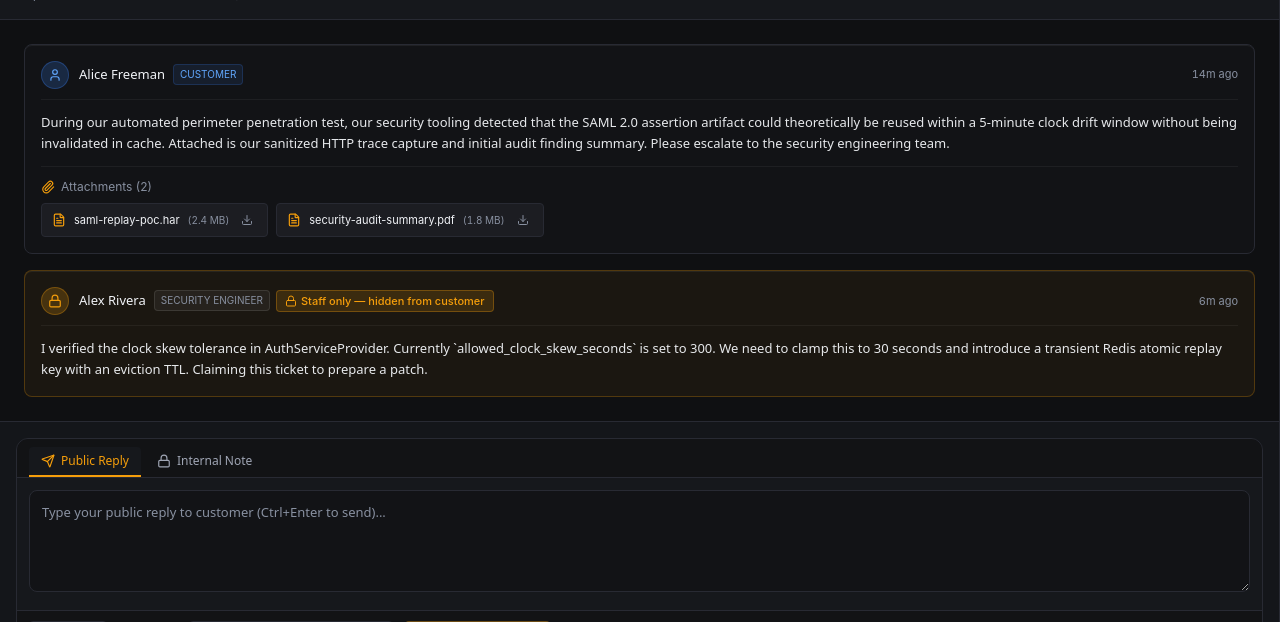
Test: Assignment conflict recovery › keeps a stale Claim deliberate and accepts the current Assignment without another mutation
The width and height of the screenshot is (1280, 622).
(page scrolled)
Type "Claim draft" into the text box with test id "composer-textarea".
click(640, 541); type("Claim draft")  # box [29,490,1250,592]
(page scrolled)
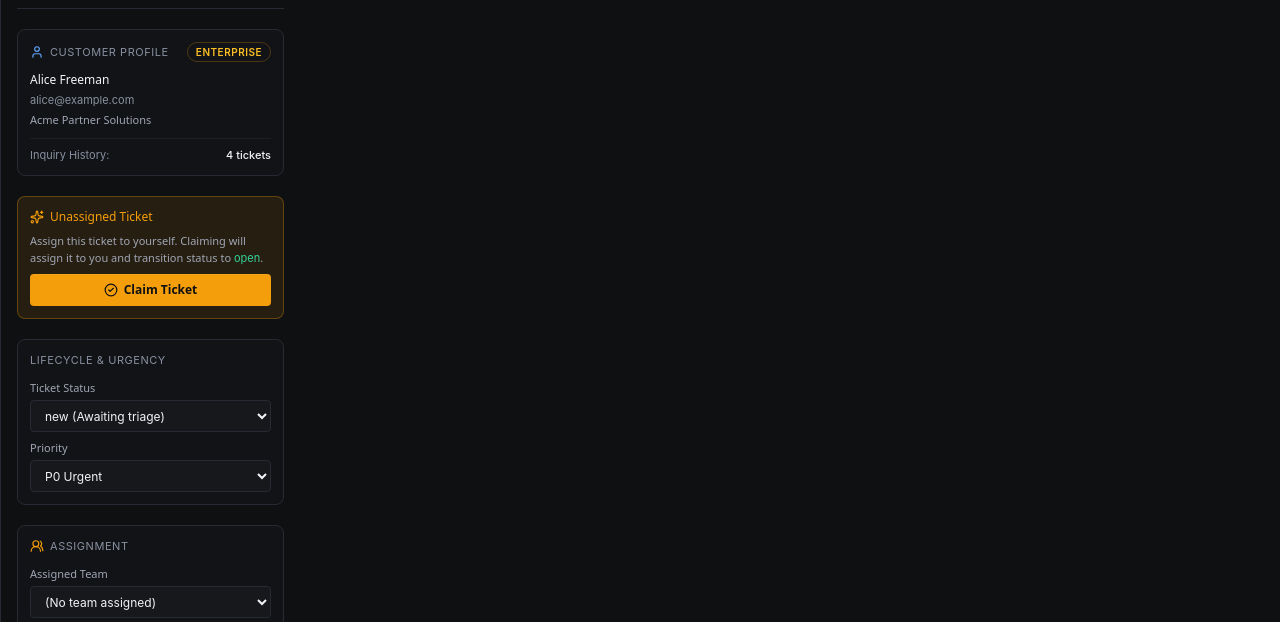
Click the button "Claim Ticket".
click(150, 290)  # box [30,274,271,306]
(page scrolled)
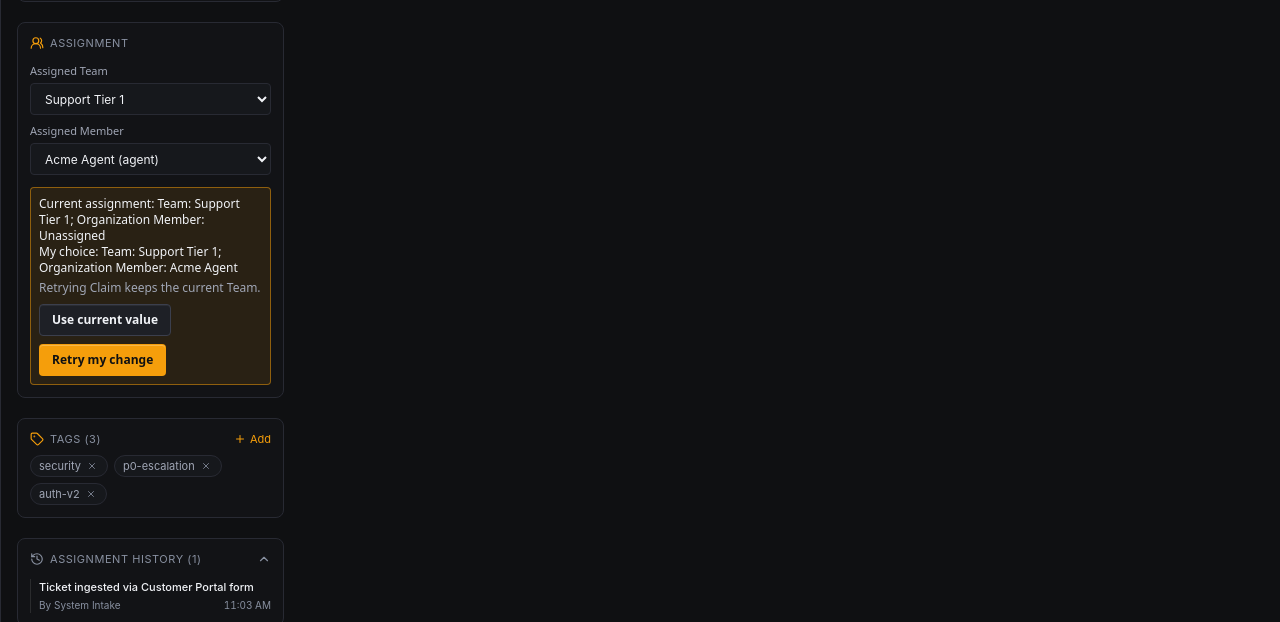
Result: the text "Current assignment: Team: Support Tier 1; Organization Member: Unassigned" is shown at [39,196,262,244]
Result: the text "My choice: Team: Support Tier 1; Organization Member: Acme Agent" is shown at [39,244,262,276]
Result: the text "Retrying Claim keeps the current Team." is shown at [39,280,262,296]
Click the button "Use current value".
click(105, 320)  # box [39,304,171,336]
(page scrolled)
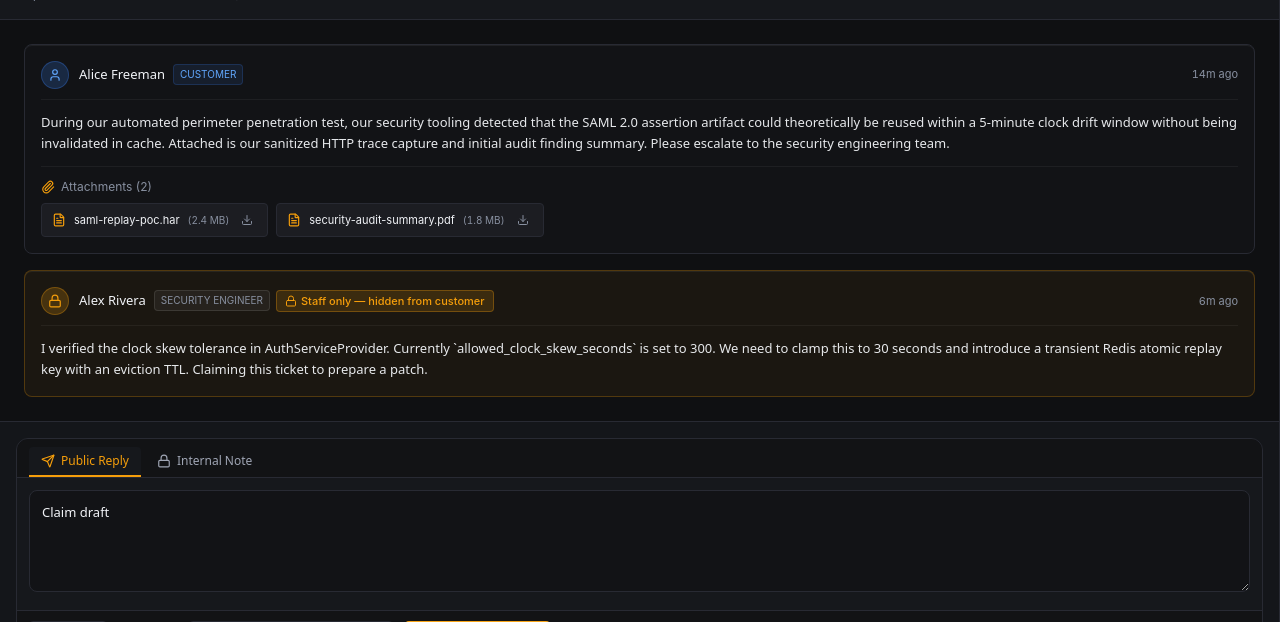
Result: the text "Current assignment: Team: Support Tier 1; Organization Member: Unassigned" is gone
